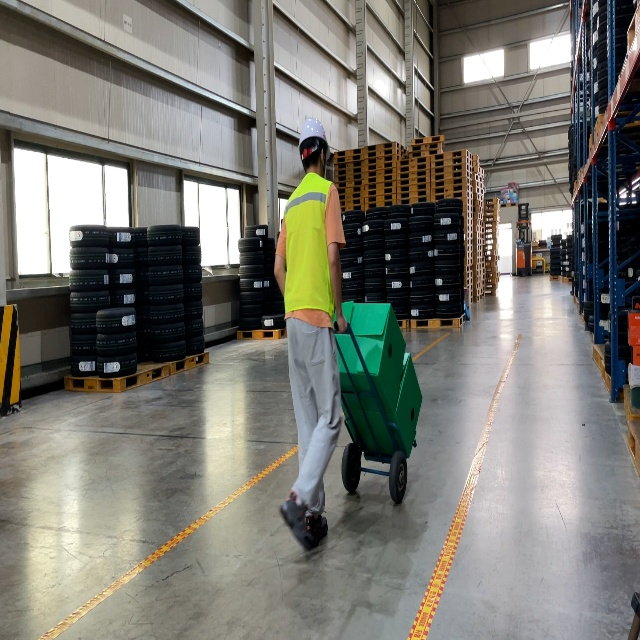Box: (341, 351, 423, 460), (332, 300, 407, 416)
Worker: (273, 115, 346, 551)
